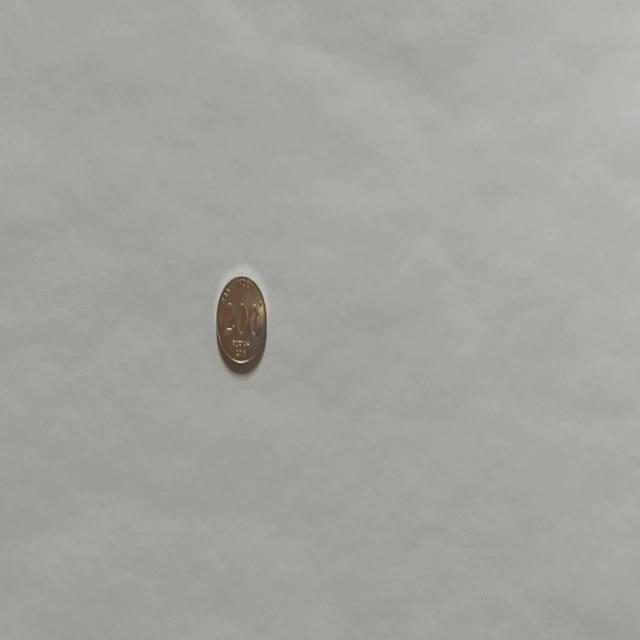dua ratus rupiah: (215, 272, 268, 372)
